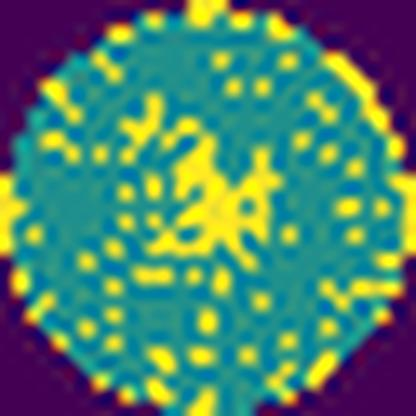Center: (140, 112, 283, 278)
